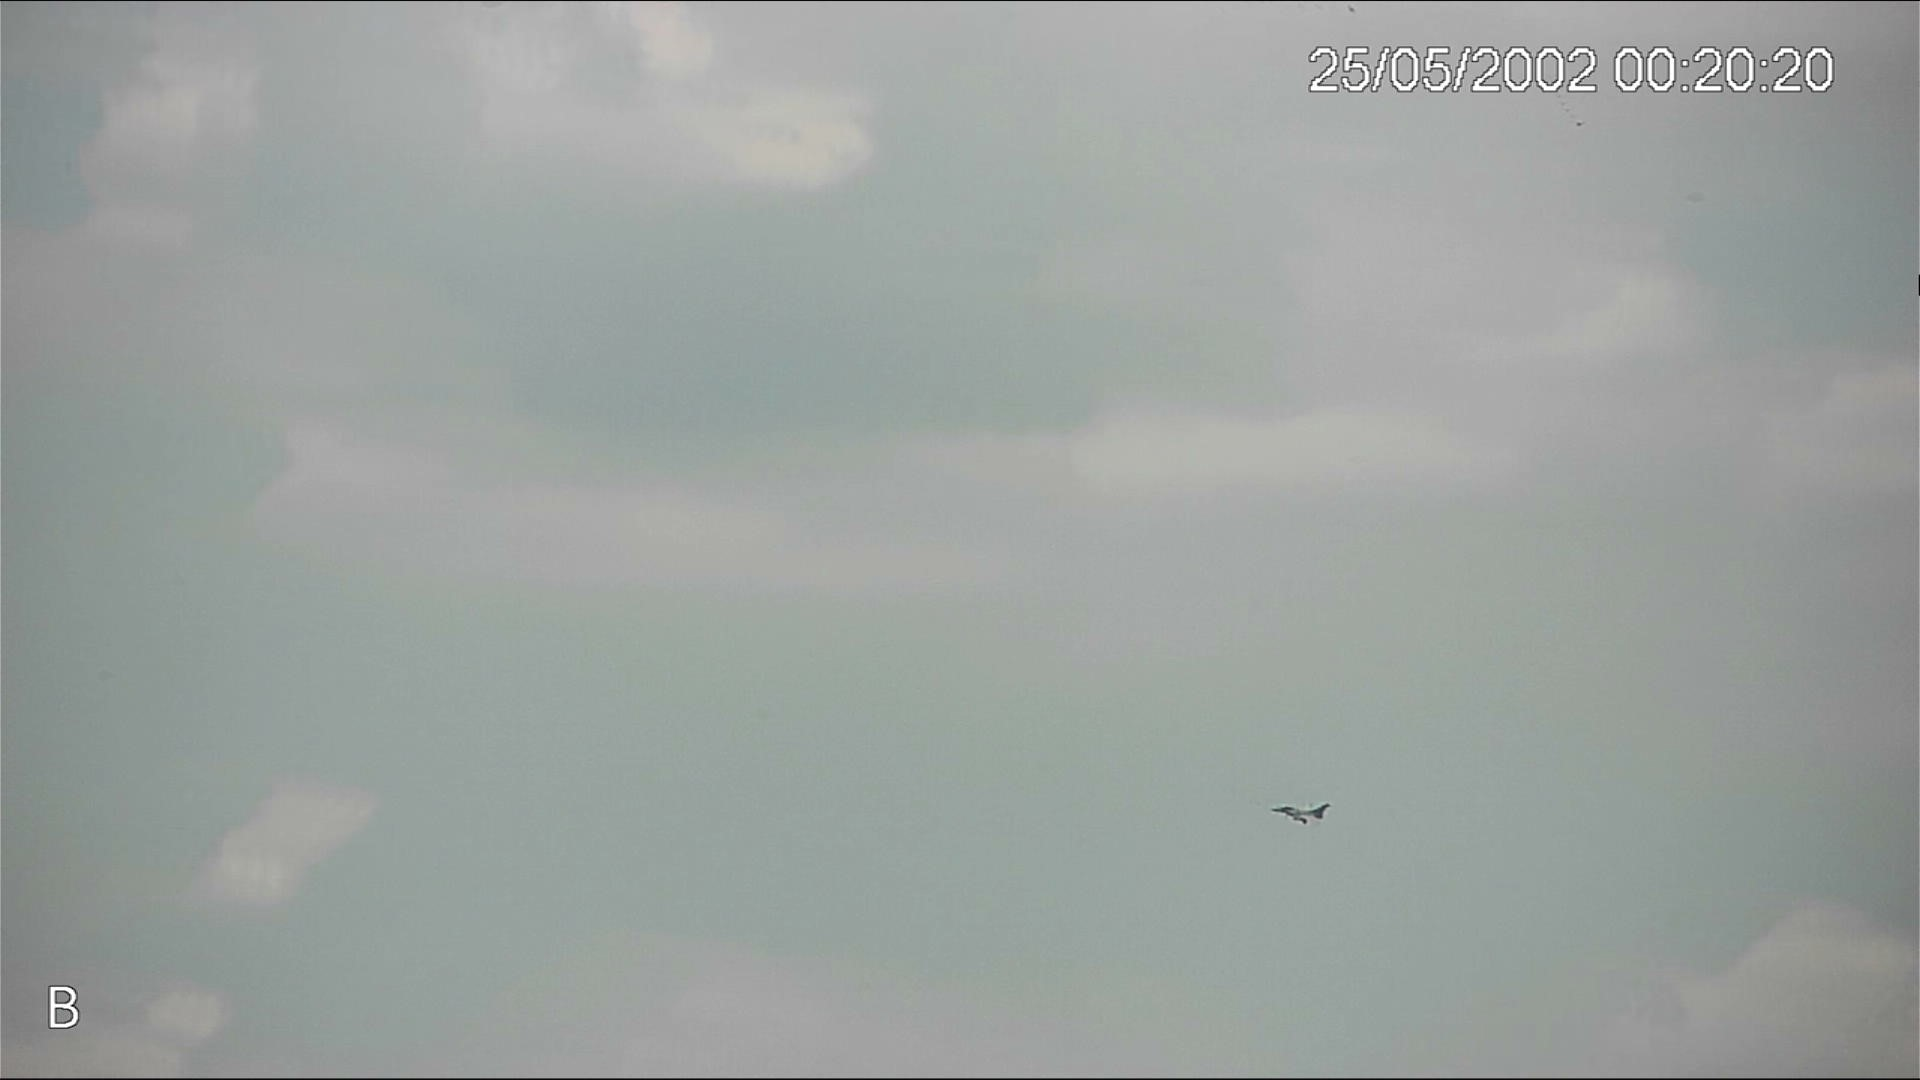SU_30: (1269, 799, 1335, 829)
